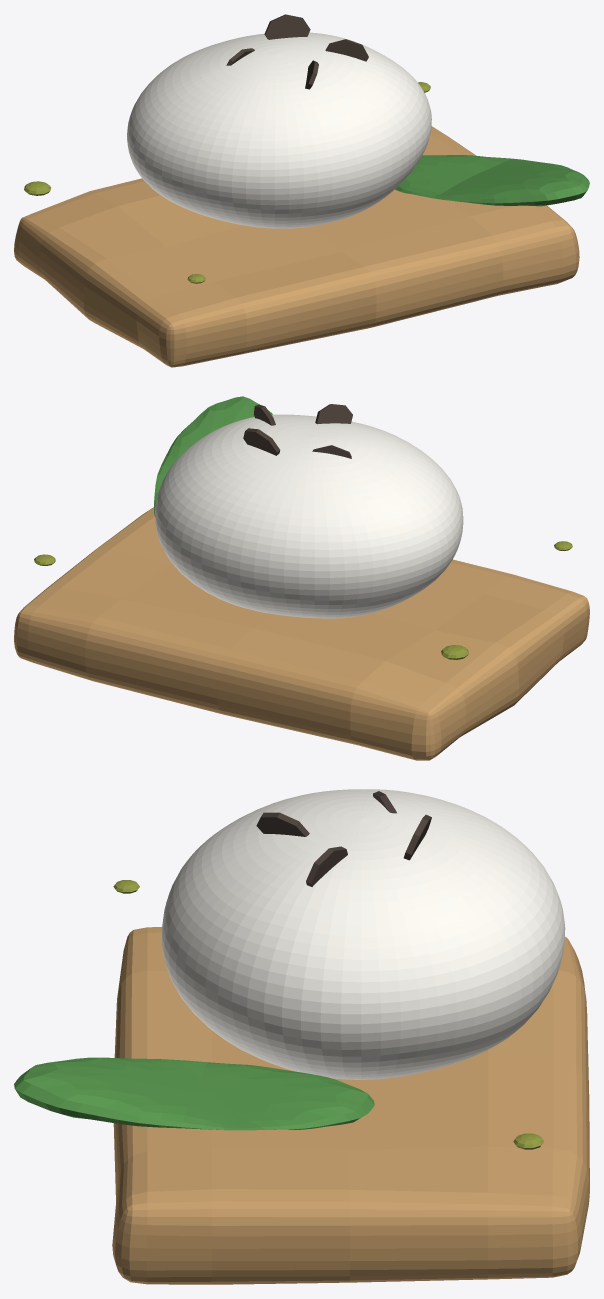
Rendered from TruffleBurrataCrostini.gltf.
3 views of the same model, one above another, from view 1: azimuth 30°, elevation 25°; view 2: azimuth 150°, elevation 25°; view 3: azimuth 270°, elevation 25° (orthographic). The views are drawn at different scales.
Parts seen in each view (by area): view 1: Crostini, Burrata, BasilLeaf, TruffleShaving3, TruffleShaving1; view 2: Crostini, Burrata, BasilLeaf, TruffleShaving2, TruffleShaving3; view 3: Crostini, Burrata, BasilLeaf, TruffleShaving2, TruffleShaving1.
Boxes of the visible parts, <box> form: Crostini: <box>14,126,579,367</box>; Burrata: <box>127,32,431,228</box>; BasilLeaf: <box>395,155,589,206</box>; TruffleShaving3: <box>264,14,310,39</box>; TruffleShaving1: <box>325,39,368,61</box>; Crostini: <box>14,507,589,760</box>; Burrata: <box>155,414,463,618</box>; BasilLeaf: <box>154,396,272,516</box>; TruffleShaving2: <box>315,404,352,424</box>; TruffleShaving3: <box>243,428,280,455</box>; Crostini: <box>112,927,589,1284</box>; Burrata: <box>162,789,565,1079</box>; BasilLeaf: <box>14,1057,374,1130</box>; TruffleShaving2: <box>256,812,309,836</box>; TruffleShaving1: <box>306,846,347,886</box>.
Bounding box in the file's own units: 0.6293 × 0.3404 × 0.5158.
